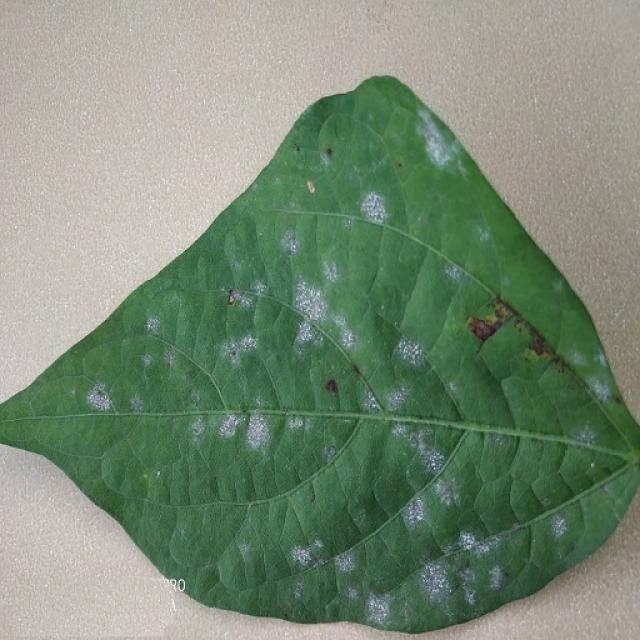Blackgram: (0, 76, 639, 631)
Powdery_Mildew: (407, 427, 448, 474), (244, 411, 282, 456), (295, 280, 330, 325), (418, 561, 452, 601), (423, 128, 452, 166), (331, 313, 358, 351), (585, 370, 614, 403), (227, 334, 259, 361), (360, 191, 387, 222), (395, 338, 424, 366), (86, 383, 114, 411), (366, 594, 391, 624), (295, 320, 320, 348), (402, 497, 426, 526), (433, 477, 457, 506), (218, 413, 241, 440), (573, 424, 598, 446), (487, 564, 506, 591), (385, 388, 408, 410), (292, 545, 314, 567), (334, 551, 355, 573), (322, 259, 341, 283), (457, 531, 478, 552), (569, 349, 591, 369), (362, 389, 381, 412), (460, 566, 479, 589), (281, 228, 299, 252), (444, 263, 464, 283), (551, 515, 567, 537), (190, 417, 205, 438), (408, 429, 423, 448), (391, 422, 408, 438), (288, 415, 305, 430), (596, 351, 609, 370), (146, 317, 160, 334), (130, 395, 144, 412), (345, 585, 360, 600), (253, 280, 267, 296), (478, 227, 491, 243), (163, 350, 176, 365), (292, 583, 304, 599), (325, 445, 337, 460), (142, 353, 154, 367), (239, 542, 251, 556), (313, 538, 325, 551), (602, 483, 613, 495), (449, 381, 459, 394), (287, 199, 297, 210), (157, 470, 161, 477)
